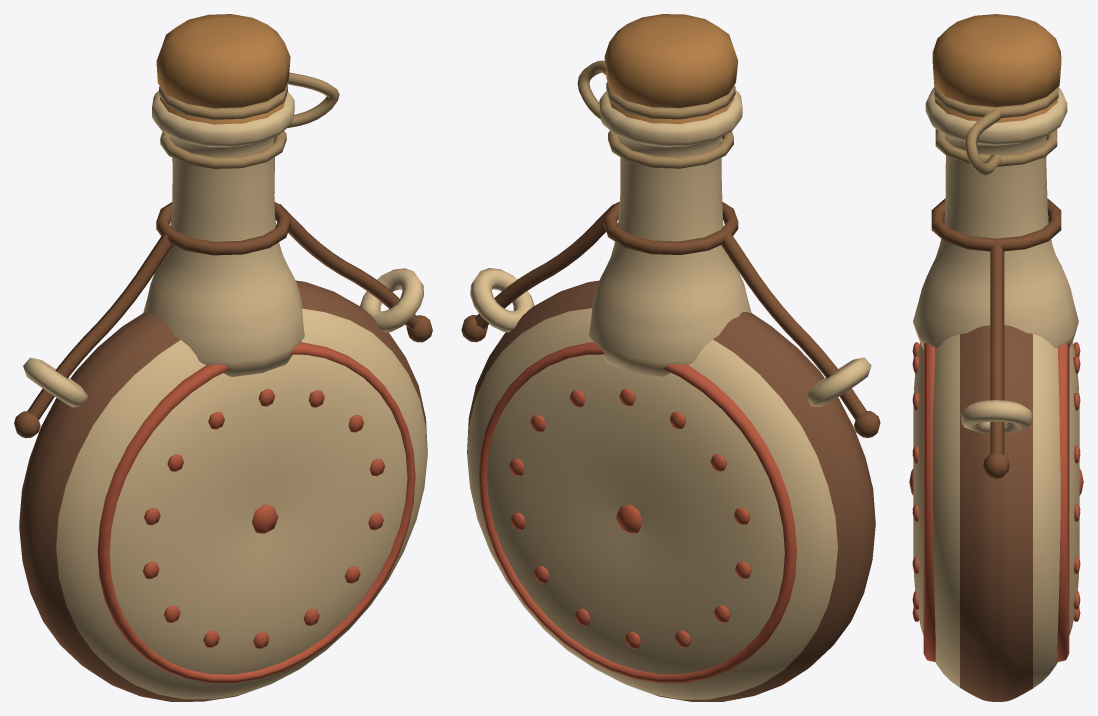
File: tool_flask.fbx
3 views of the same model, side by side, from view 1: azimuth 30°, elevation 25°; view 2: azimuth 150°, elevation 25°; view 3: azimuth 270°, elevation 25° (orthographic).
Visible parts, largest first — view 1: Tool_Flask_Body, Tool_Flask_Slip, Tool_Flask_Stopper, Tool_Flask_Sling, Tool_Flask_StopperCord; view 2: Tool_Flask_Body, Tool_Flask_Slip, Tool_Flask_Stopper, Tool_Flask_Sling, Tool_Flask_StopperCord; view 3: Tool_Flask_Body, Tool_Flask_Stopper, Tool_Flask_Slip, Tool_Flask_Sling, Tool_Flask_StopperCord.
Boxes of the visible parts, bbox=[...] form: Tool_Flask_Body: bbox=[19, 91, 427, 701]; Tool_Flask_Slip: bbox=[97, 342, 415, 683]; Tool_Flask_Stopper: bbox=[156, 14, 290, 124]; Tool_Flask_Sling: bbox=[14, 202, 432, 438]; Tool_Flask_StopperCord: bbox=[159, 72, 339, 168]; Tool_Flask_Body: bbox=[467, 90, 875, 701]; Tool_Flask_Slip: bbox=[478, 342, 796, 682]; Tool_Flask_Stopper: bbox=[604, 14, 738, 124]; Tool_Flask_Sling: bbox=[461, 202, 880, 437]; Tool_Flask_StopperCord: bbox=[577, 60, 735, 168]; Tool_Flask_Body: bbox=[913, 87, 1079, 701]; Tool_Flask_Stopper: bbox=[932, 14, 1061, 122]; Tool_Flask_Slip: bbox=[909, 342, 1083, 661]; Tool_Flask_Sling: bbox=[931, 198, 1061, 478]; Tool_Flask_StopperCord: bbox=[934, 86, 1058, 175].
Size of the model in its own units: 20.96 by 31.97 by 7.72.
